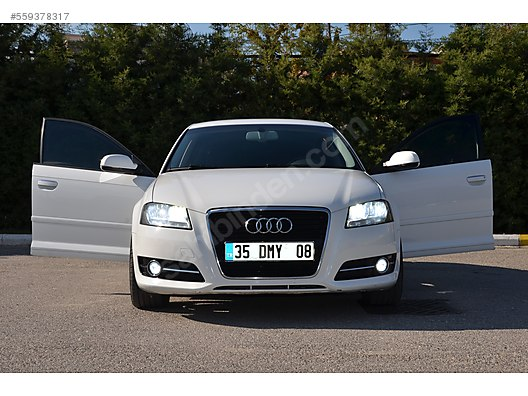audi: (237, 215, 298, 236)
